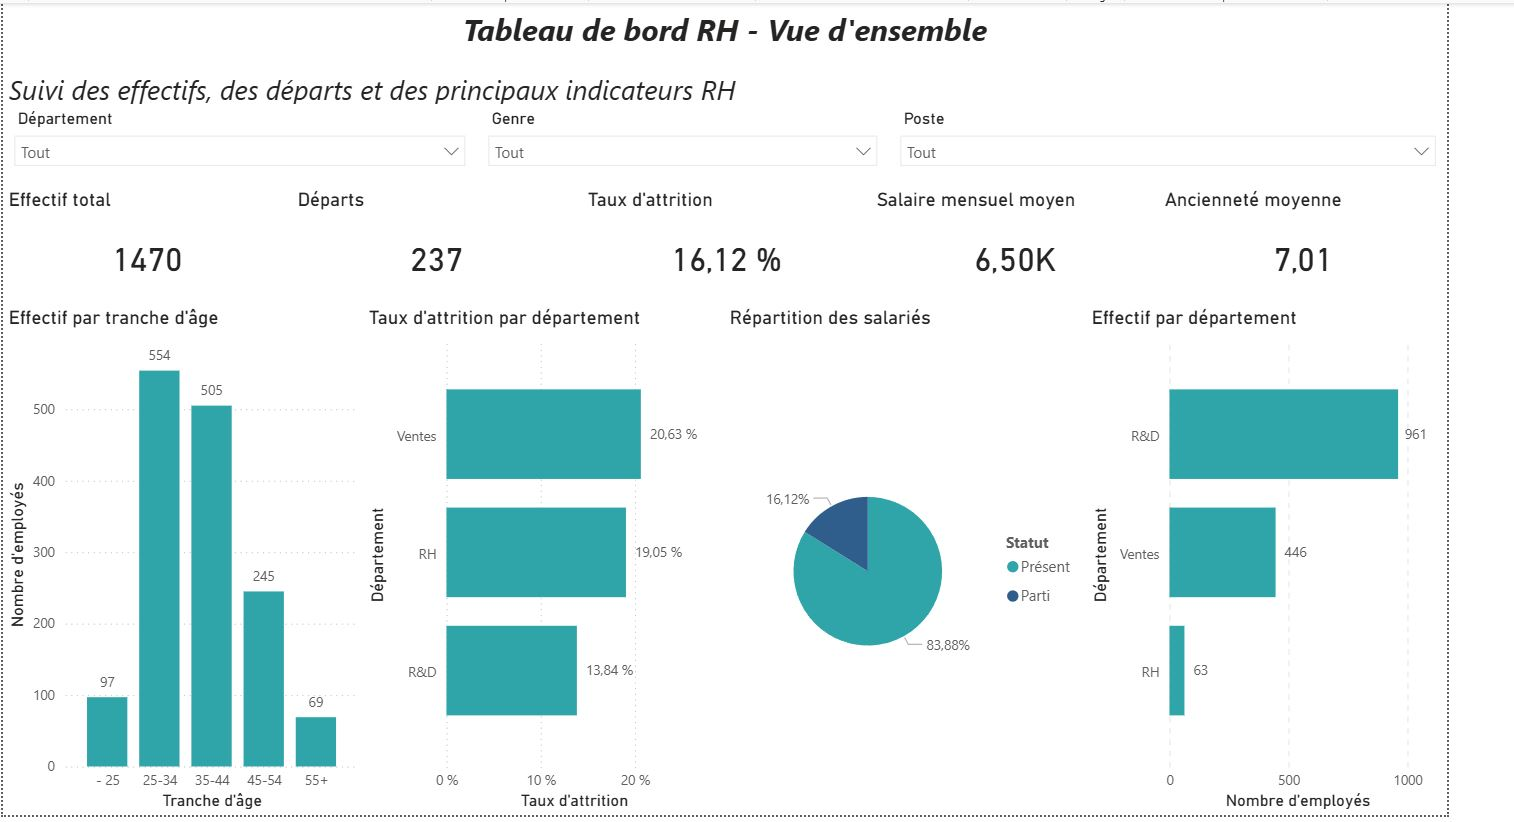

This screenshot's page, from the dashboard's own definition file:
{"tool":"powerbi","page":{"name":"Vue d'ensemble RH","canvas":[1280,720],"ordinal":0},"visuals":[{"type":"card","title":"Effectif total","fields":{"Values":["Employees.m_Total_Employees"]},"box":[0,164,256,105],"z":0},{"type":"card","title":"Départs","fields":{"Values":["Employees.m_Attrition_Count"]},"box":[256.3,164,256.3,104.6],"z":1000},{"type":"card","title":"Taux d''attrition","fields":{"Values":["Employees.m_Attrition_Rate"]},"box":[513.4,164,256.3,104.6],"z":2000},{"type":"card","title":"Salaire mensuel moyen","fields":{"Values":["Employees.m_Average_Monthly_Income"]},"box":[769.7,164,255.4,104.6],"z":3000},{"type":"card","title":"Ancienneté moyenne","fields":{"Values":["Employees.m_Average_Years_at_Company"]},"box":[1025,164,255.4,104.6],"z":4000},{"type":"barChart","title":"Effectif par département","fields":{"Y":["Employees.m_Total_Employees"],"Category":["Employees.C_Department_Label"]},"box":[960.3,268.7,320.1,451.3],"z":5000},{"type":"pieChart","title":"Répartition des salariés","fields":{"Y":["Employees.m_Total_Employees"],"Category":["Employees.C_Attrition_Label"]},"box":[639.3,268.7,321,451.3],"z":6000},{"type":"barChart","title":"Taux d''attrition par département","fields":{"Y":["Employees.m_Attrition_Rate"],"Category":["Employees.C_Department_Label"]},"box":[319.2,268.7,320.1,451.3],"z":7000},{"type":"columnChart","title":"Effectif par tranche d''âge","fields":{"Category":["Employees.C_Age_Group"],"Y":["Employees.m_Total_Employees"]},"box":[0,268.7,320.1,451.3],"z":8000},{"type":"textbox","box":[0,0,1280.4,55],"z":9000},{"type":"textbox","box":[0,55,1213,46.1],"z":10000},{"type":"slicer","title":"Département","fields":{"Values":["Employees.Department"]},"box":[0,89.6,420.3,63.8],"z":11000},{"type":"slicer","fields":{"Values":["Employees.JobRole"]},"box":[785.6,89.6,494.8,63.8],"z":12000},{"type":"slicer","fields":{"Values":["Employees.Gender"]},"box":[420.3,89.6,365.3,63.8],"z":13000}]}

Visuals, with their boxes on the page's 1280x720 design canvas (x1, y1, x2, y2). These are canvas units, not pixel positions in the 1514x822 screenshot, which may show the page scaled, cropped or inside an application window:
"Effectif total" card: [0,164,256,269]
"Départs" card: [256,164,513,269]
"Taux d''attrition" card: [513,164,770,269]
"Salaire mensuel moyen" card: [770,164,1025,269]
"Ancienneté moyenne" card: [1025,164,1280,269]
"Effectif par département" barChart: [960,269,1280,720]
"Répartition des salariés" pieChart: [639,269,960,720]
"Taux d''attrition par département" barChart: [319,269,639,720]
"Effectif par tranche d''âge" columnChart: [0,269,320,720]
textbox: [0,0,1280,55]
textbox: [0,55,1213,101]
"Département" slicer: [0,90,420,153]
slicer - Employees.JobRole: [786,90,1280,153]
slicer - Employees.Gender: [420,90,786,153]
